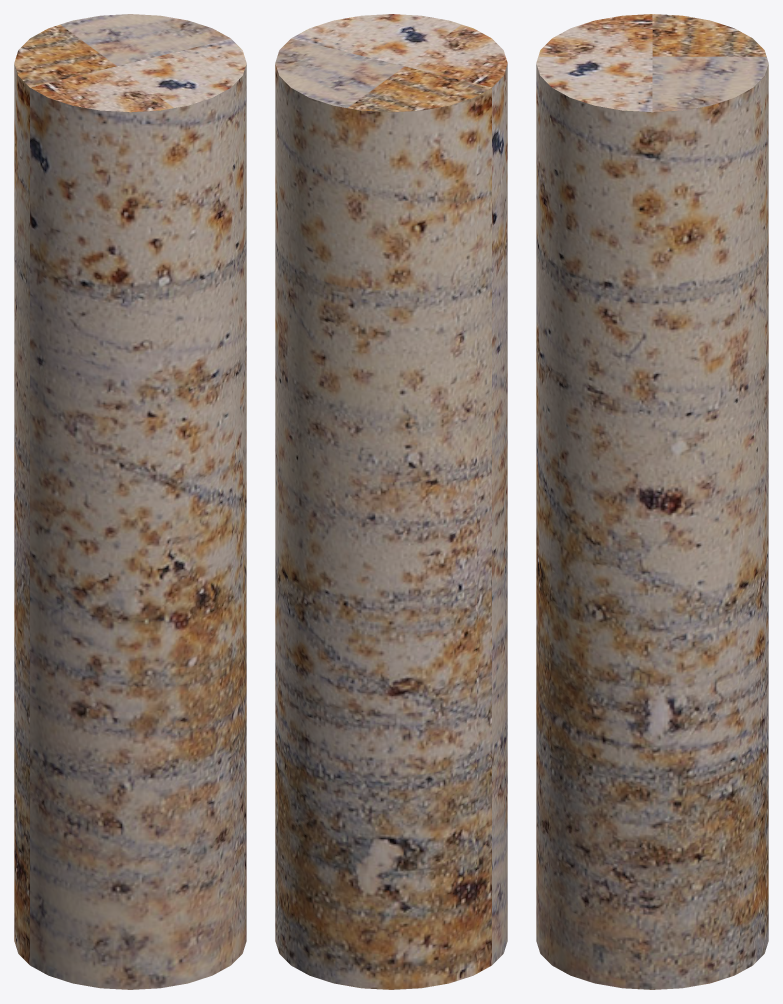
The model's file is cilindro.dae.
3 renders of one model, left to right at view 1: azimuth 30°, elevation 25°; view 2: azimuth 150°, elevation 25°; view 3: azimuth 270°, elevation 25°, orthographic.
Visible parts, largest first — view 1: group_0; view 2: group_0; view 3: group_0.
Boxes of the visible parts, x1,y1,x2,y2 form: group_0: (14,14,246,989); group_0: (275,14,507,989); group_0: (536,14,768,989).
Size of the model in its own units: 47.24 by 47.24 by 197.
Materials: 2 (1 with a texture image).
